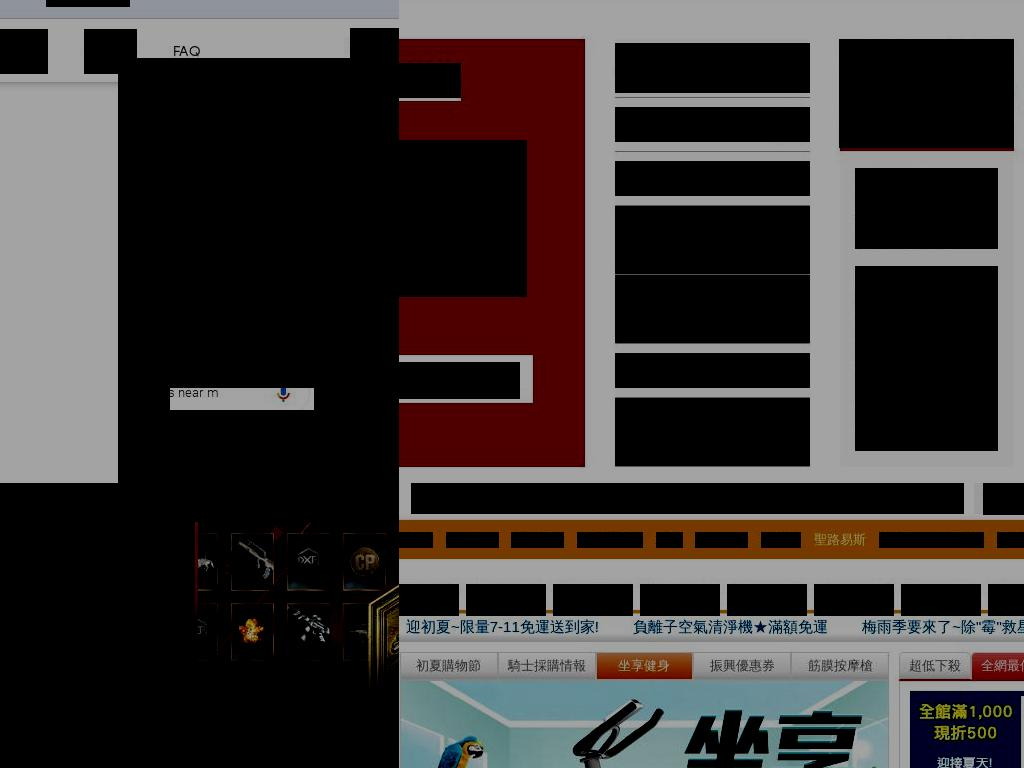button: (401, 681, 888, 768), (399, 140, 527, 297), (839, 39, 1014, 148), (615, 206, 810, 274), (615, 275, 810, 343), (615, 398, 810, 466), (855, 168, 998, 249), (615, 43, 810, 93), (615, 107, 810, 142), (615, 161, 810, 196), (615, 353, 810, 388), (399, 362, 520, 399), (466, 584, 546, 616), (553, 584, 633, 616), (640, 584, 720, 616), (727, 584, 807, 616), (814, 584, 894, 616), (901, 584, 981, 616), (399, 584, 459, 616), (988, 584, 1024, 616)
field: (411, 483, 964, 514), (983, 483, 1024, 515)
heading: (855, 168, 998, 249), (223, 745, 399, 768), (0, 745, 173, 768), (466, 584, 546, 612), (553, 584, 633, 612), (640, 584, 720, 612), (727, 584, 807, 612), (814, 584, 894, 612), (901, 584, 981, 612), (399, 584, 459, 612), (988, 584, 1024, 612)
image: (118, 58, 399, 483), (195, 520, 399, 768), (0, 520, 196, 768), (401, 681, 888, 768), (839, 39, 1014, 148), (194, 290, 389, 354)
link: (406, 618, 603, 635), (633, 618, 829, 635), (862, 618, 1024, 635), (84, 29, 137, 74), (350, 28, 399, 73), (0, 29, 48, 74), (879, 532, 984, 548), (173, 29, 201, 74), (577, 532, 643, 548), (446, 532, 499, 548), (511, 532, 564, 548), (695, 532, 748, 548), (814, 532, 867, 548), (761, 532, 801, 548), (46, 0, 130, 7), (399, 532, 433, 548), (656, 532, 683, 548), (997, 532, 1024, 548)
text: (855, 266, 998, 451), (622, 284, 758, 334), (622, 215, 737, 265), (622, 407, 715, 457), (170, 388, 314, 410), (497, 652, 596, 680), (595, 652, 694, 680), (693, 652, 792, 680), (400, 652, 498, 680), (791, 652, 889, 680), (622, 170, 761, 187), (399, 63, 461, 98), (899, 652, 971, 680), (622, 362, 740, 379), (971, 652, 1024, 680), (622, 116, 694, 133), (399, 372, 467, 389), (466, 372, 481, 389)
